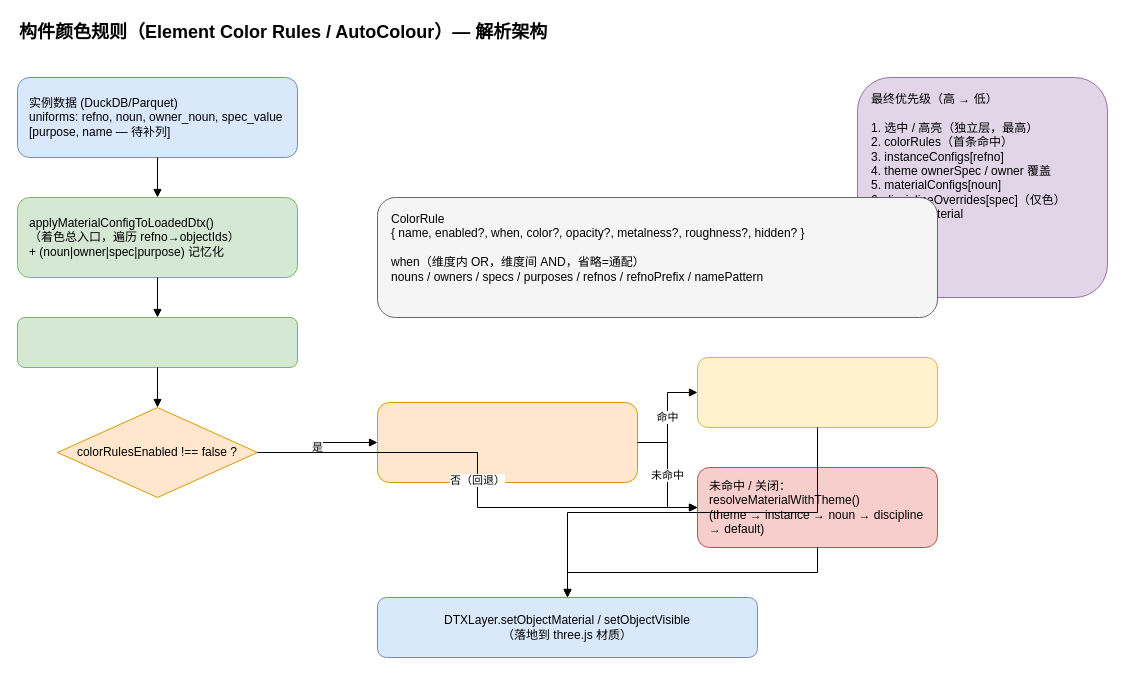
Image size: 1125x675. Some labels were removed from this diagram. Each missing label, with the centre of its shape:
"matchColorRule(rules, ctx) 有序遍历，首条命中即返回 (first-match)" goes at point 507,442.
"resolveMaterialWithRules(config, ctx, theme)" goes at point 157,342.
"命中：规则颜色/透明度/隐藏 未指定字段回退 base 解析" goes at point 817,392.
